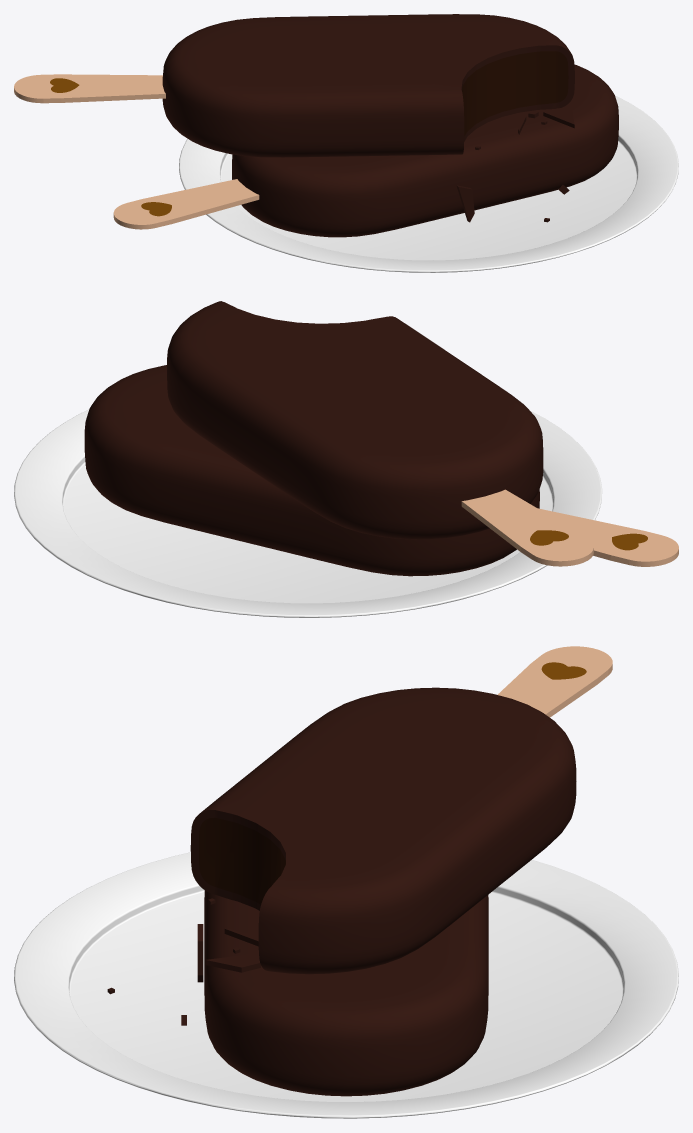
3 views of the same model, one above another, from view 1: azimuth 30°, elevation 25°; view 2: azimuth 150°, elevation 25°; view 3: azimuth 270°, elevation 25° (orthographic). The views are drawn at different scales.
Visible parts, largest first — view 1: ChocoBar.002, ChocoBar, Dish, Stick.002, Stick, Plane.008; view 2: ChocoBar.002, Dish, ChocoBar, Stick.002, Stick; view 3: Dish, ChocoBar.002, ChocoBar, Stick.002, Plane.001.
Boxes of the visible parts, x1=… form: ChocoBar.002: x1=162, y1=14, x2=574, y2=157; ChocoBar: x1=232, y1=64, x2=618, y2=237; Dish: x1=179, y1=95, x2=678, y2=272; Stick.002: x1=14, y1=74, x2=165, y2=103; Stick: x1=113, y1=179, x2=259, y2=229; Plane.008: x1=456, y1=185, x2=474, y2=222; ChocoBar.002: x1=167, y1=301, x2=543, y2=539; Dish: x1=14, y1=409, x2=602, y2=617; ChocoBar: x1=84, y1=365, x2=539, y2=576; Stick.002: x1=461, y1=489, x2=593, y2=566; Stick: x1=538, y1=508, x2=678, y2=566; Dish: x1=14, y1=852, x2=678, y2=1118; ChocoBar.002: x1=190, y1=687, x2=576, y2=974; ChocoBar: x1=204, y1=890, x2=488, y2=1096; Stick.002: x1=497, y1=646, x2=612, y2=717; Plane.001: x1=205, y1=953, x2=260, y2=972.
Size of the model in its own units: 2.94 by 0.6828 by 2.35.
